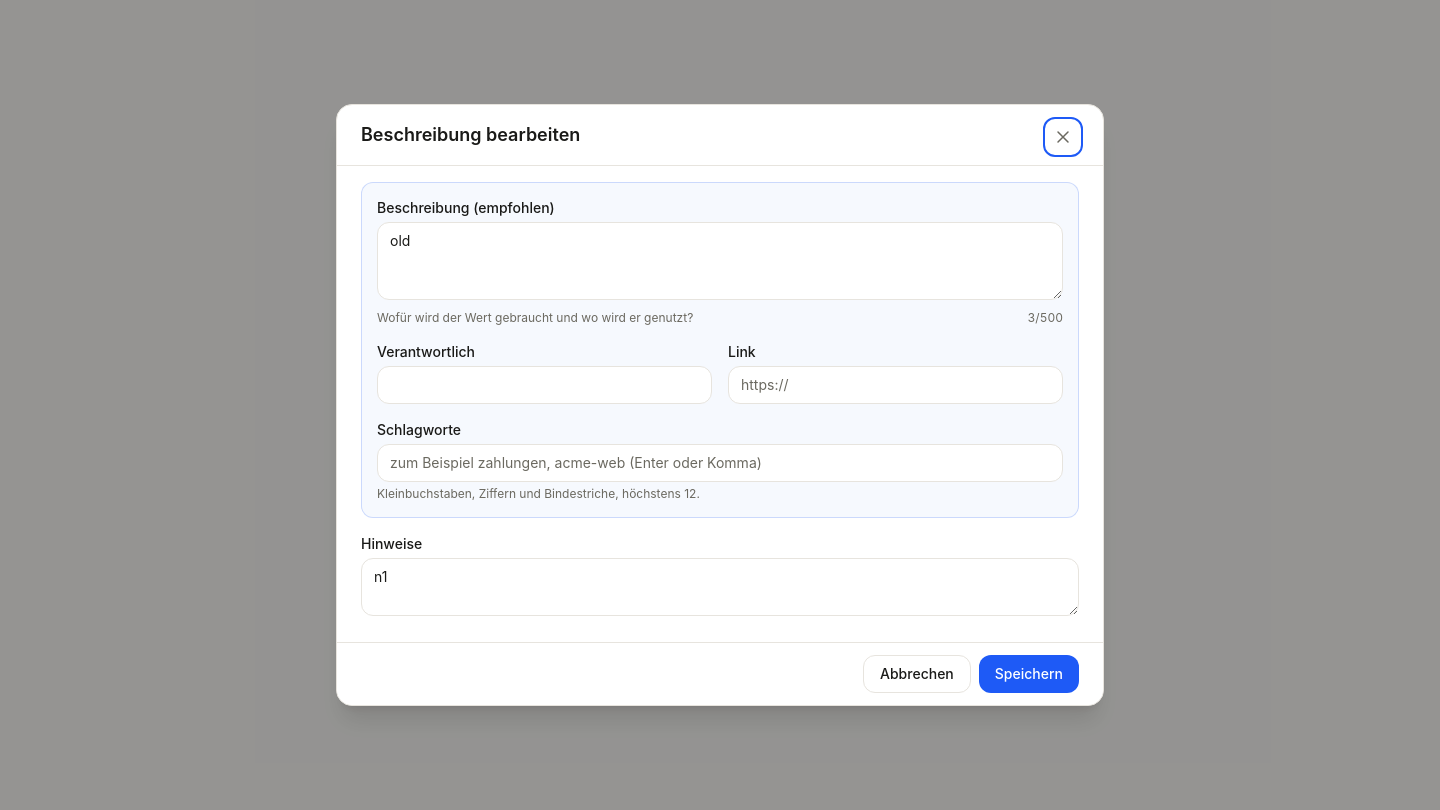
Test: EditMetaDialog › patches the trimmed values with notes and reports saved
Clear the text box labelled "Hinweise" at x=720, y=587, box [361,558,1079,616]
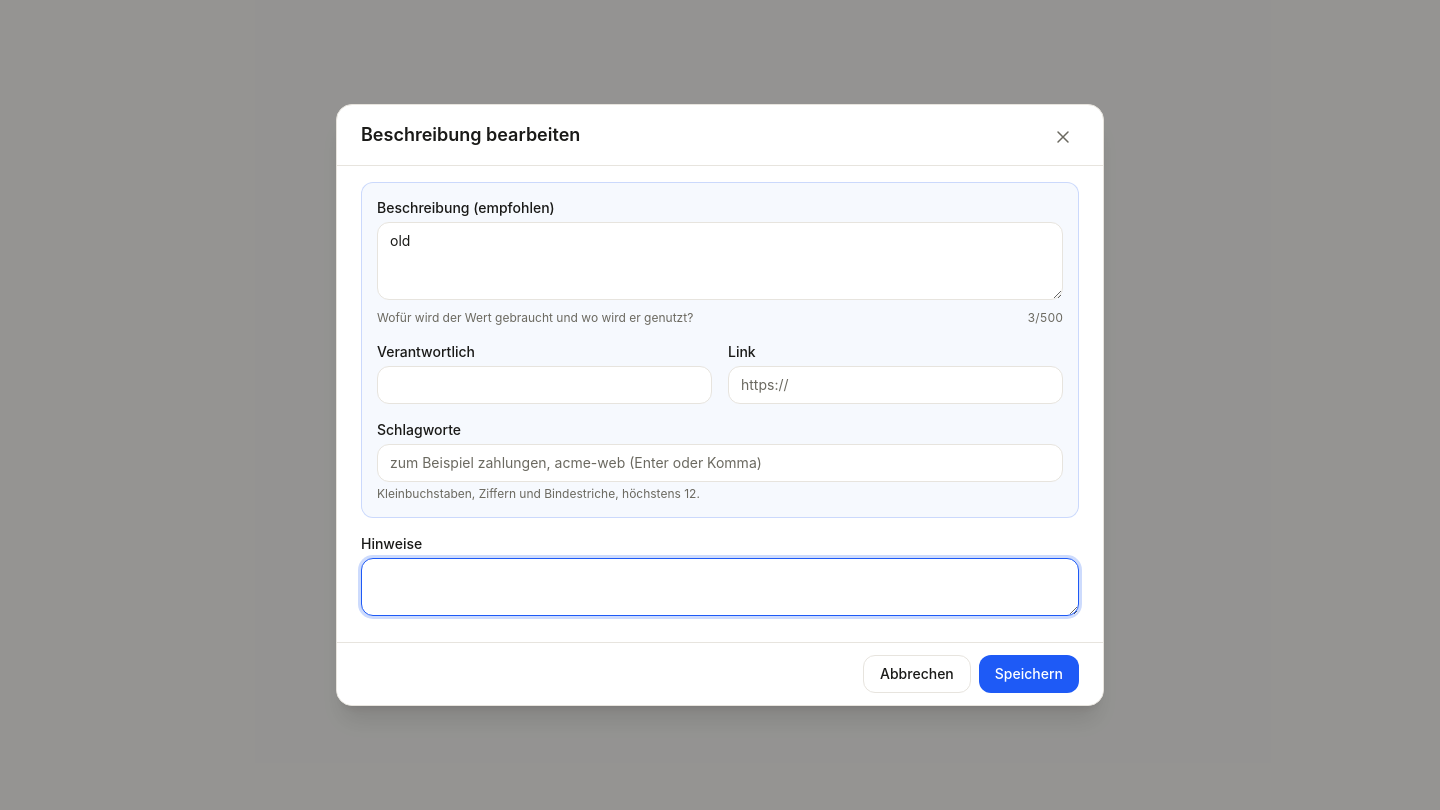
Type " new" into the text box labelled "Beschreibung (empfohlen)" at x=720, y=261, box [377,222,1063,300]
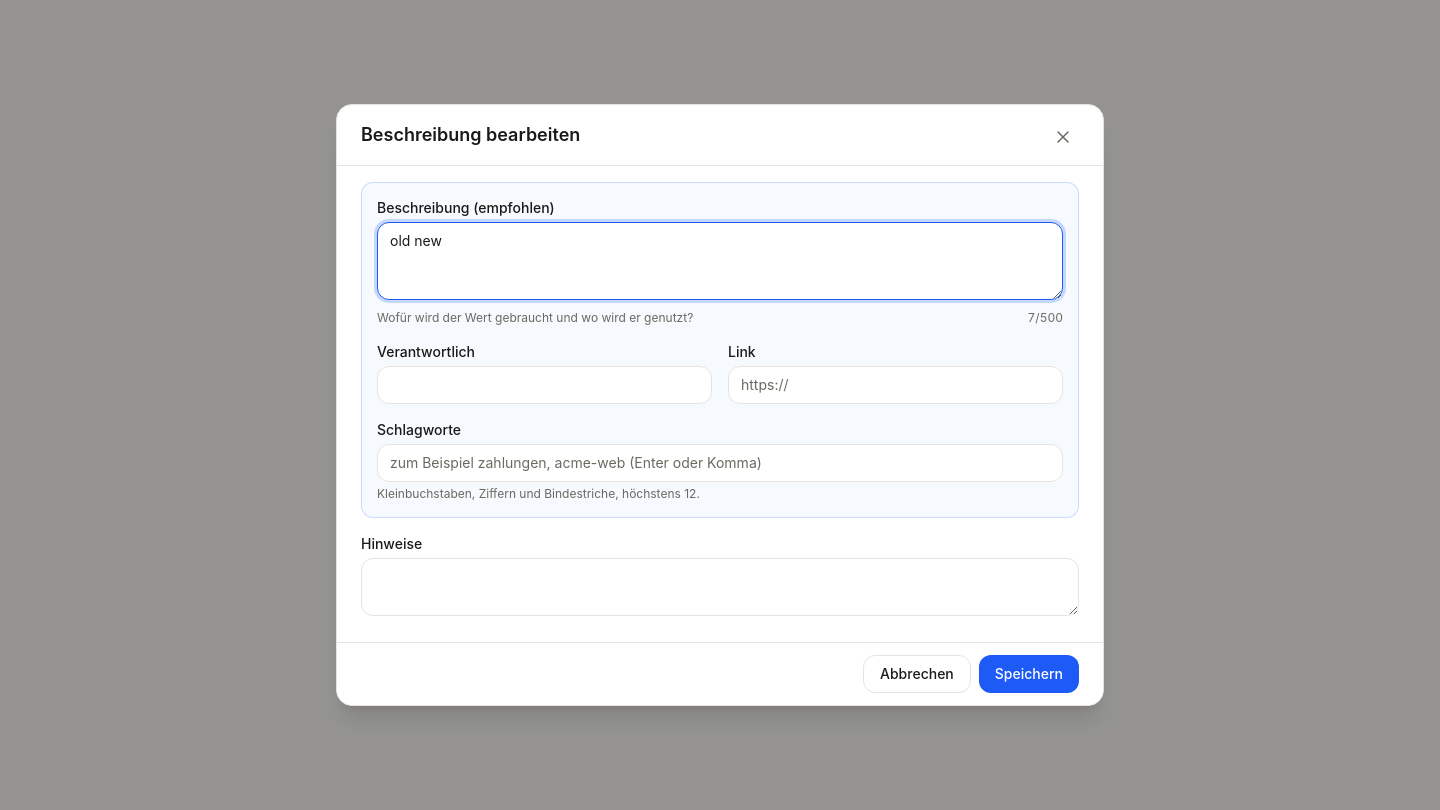
Click the button "Speichern" at x=1029, y=674, box [979,655,1079,693]
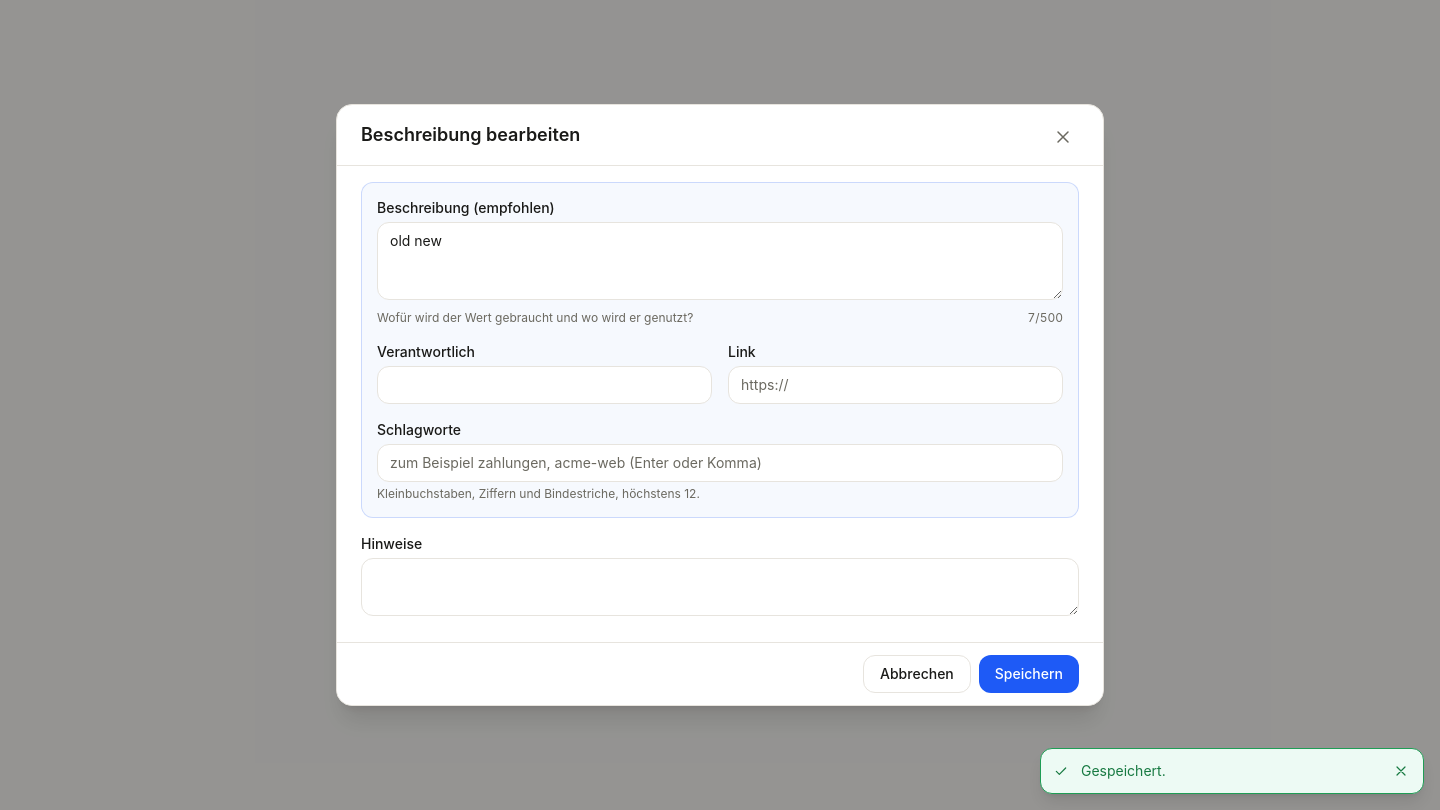
Check: the text "Gespeichert." is shown, box [1081,762,1166,779]
